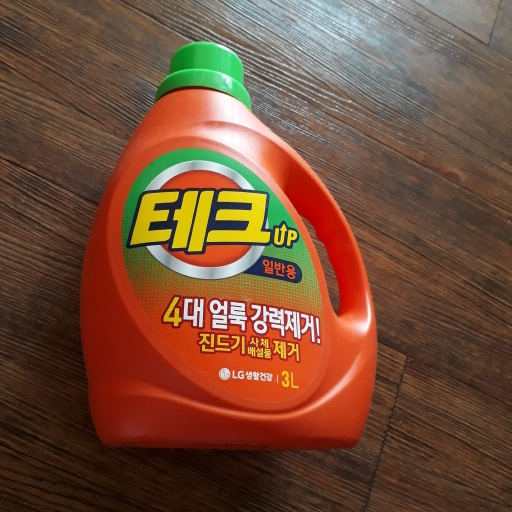Plastic_1: (74, 38, 377, 452)
